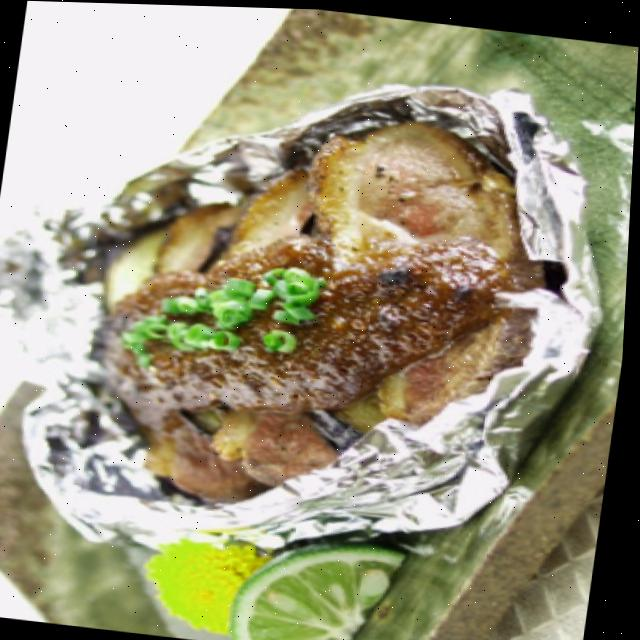鸡蛋料理: (0, 68, 595, 589)
